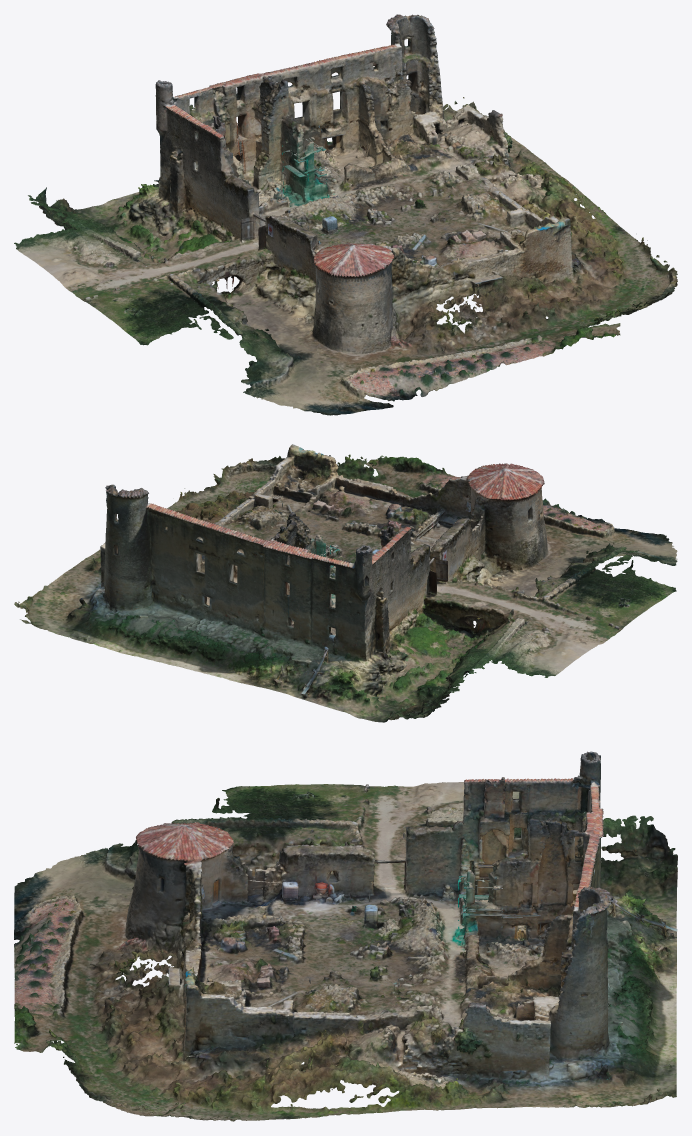
The model's file is scene-origin.glb.
3 renders of one model, top to bottom at view 1: azimuth 30°, elevation 25°; view 2: azimuth 150°, elevation 25°; view 3: azimuth 270°, elevation 25°, orthographic. The views are drawn at different scales.
Parts seen in each view (by area): view 1: default; view 2: default; view 3: default.
Part boxes in pixels (<box>): default: <box>14,14,677,415</box>; default: <box>14,444,677,722</box>; default: <box>14,751,677,1121</box>.
Bounding box in the file's own units: 54.43 × 15.78 × 50.84.
Materials: 1 (1 with a texture image).
